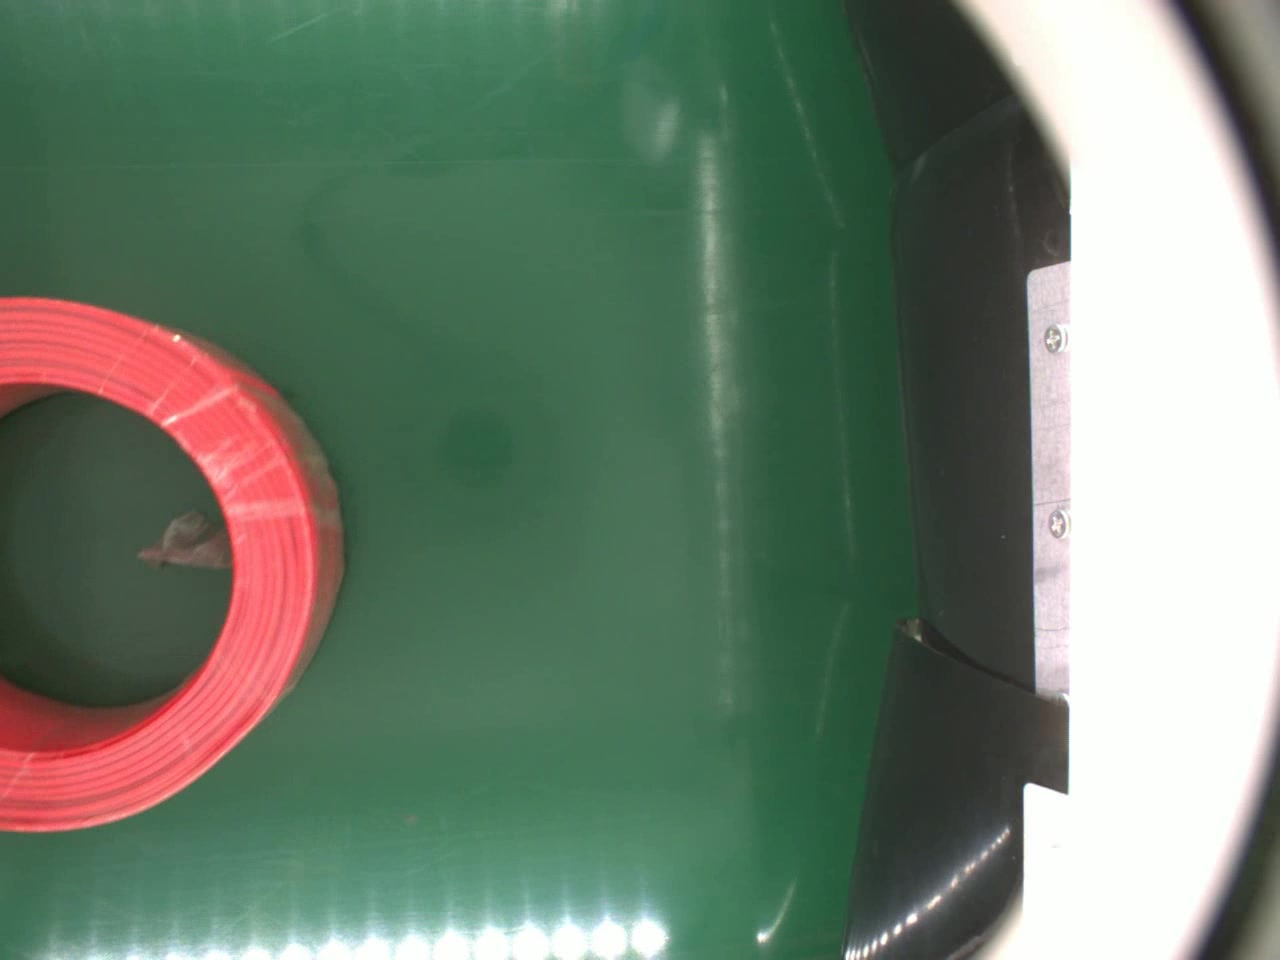red: (0, 294, 344, 832)
